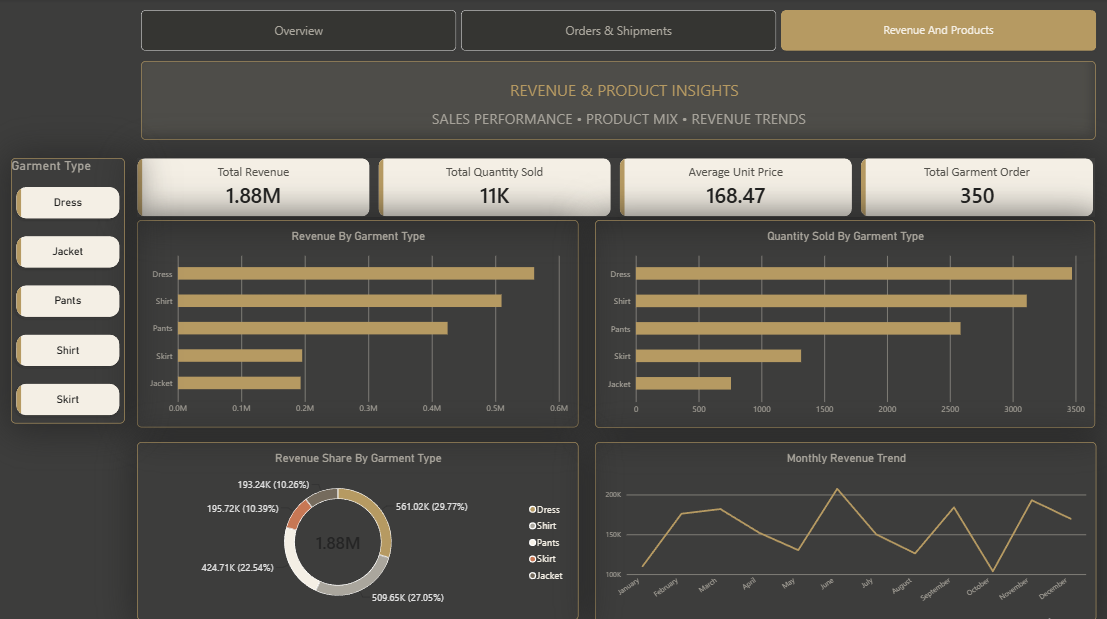

What the dashboard file says about the page in this screenshot:
{"tool":"powerbi","page":{"name":"Revenue And Products","canvas":[1920,1080],"ordinal":2},"visuals":[{"type":"shape","box":[245.7,105,1610.9,132.8],"z":0},{"type":"textbox","box":[869.7,135.3,388.2,49.7],"z":1},{"type":"textbox","box":[737.7,185.1,652.1,53.5],"z":2},{"type":"cardVisual","fields":{"Data":["Garments.Total Revenue","Garments.Total Quantity","Garments.Average Unit Price","Garments.Total Garment Order"]},"box":[239.8,267.5,1616.8,99.1],"z":3},{"type":"clusteredBarChart","title":"Revenue By Garment Type","fields":{"Category":["Garments.garment_type"],"Y":["Garments.Total Revenue"]},"box":[239.8,372.5,745,350],"z":4},{"type":"clusteredBarChart","title":"Quantity Sold By Garment Type","fields":{"Category":["Garments.garment_type"],"Y":["Garments.Total Quantity"]},"box":[1012.5,372.5,844.1,350.7],"z":5},{"type":"lineChart","title":"Monthly Revenue Trend","fields":{"Category":["Garments.order_date.Variation.Date Hierarchy.Month"],"Y":["Garments.Total Revenue"]},"box":[1012.5,747,846.1,303.2],"z":6},{"type":"donutChart","title":"Revenue Share By Garment Type","fields":{"Category":["Garments.garment_type"],"Y":["Garments.Total Revenue"]},"box":[239.8,747,745,301.2],"z":7},{"type":"pageNavigator","box":[245.7,17.8,1612.9,69.3],"z":8},{"type":"advancedSlicerVisual","title":"Garment Type","fields":{"Values":["Garments.garment_type"]},"box":[27.7,267.5,192,447.8],"z":9}]}

Visuals, with their boxes in screenshot pixels (x1, y1, x2, y2), scaled from the page's 1920x1080 canvas onto the 1107x619 screenshot:
shape: [left=142, top=60, right=1070, bottom=136]
textbox: [left=501, top=78, right=725, bottom=106]
textbox: [left=425, top=106, right=801, bottom=137]
cardVisual - Garments.Total Revenue x Garments.Total Quantity: [left=138, top=153, right=1070, bottom=210]
"Revenue By Garment Type" clusteredBarChart: [left=138, top=213, right=568, bottom=414]
"Quantity Sold By Garment Type" clusteredBarChart: [left=584, top=213, right=1070, bottom=415]
"Monthly Revenue Trend" lineChart: [left=584, top=428, right=1072, bottom=602]
"Revenue Share By Garment Type" donutChart: [left=138, top=428, right=568, bottom=601]
pageNavigator: [left=142, top=10, right=1072, bottom=50]
"Garment Type" advancedSlicerVisual: [left=16, top=153, right=127, bottom=410]
